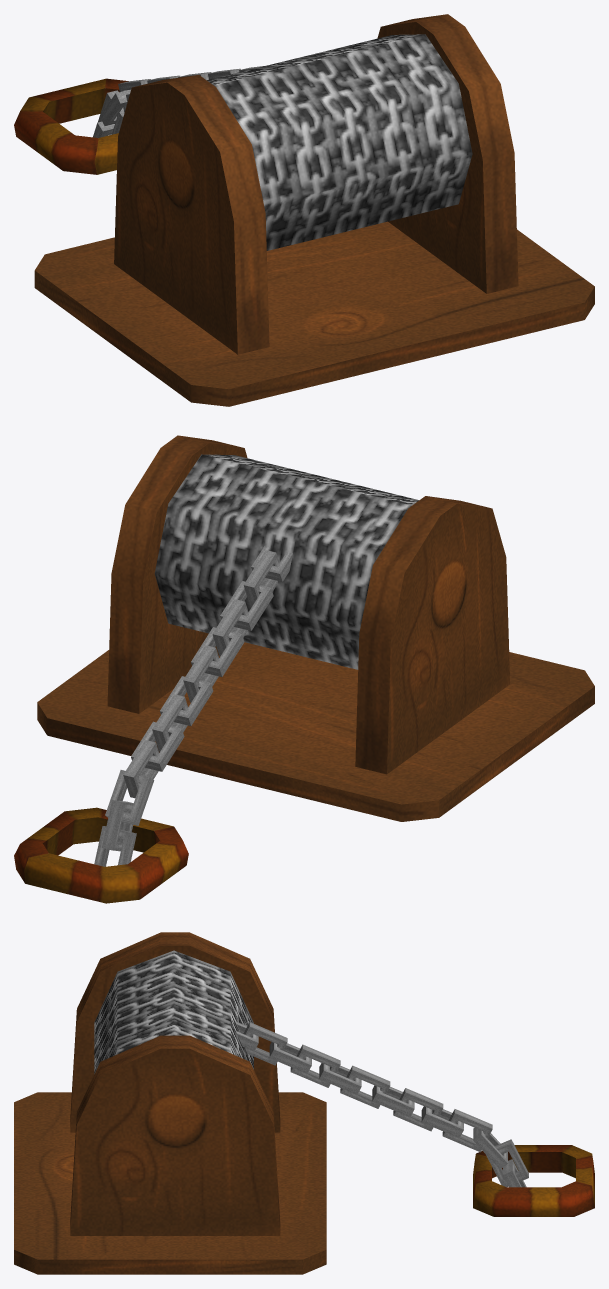
File: Skull_Death_Trap_Winch.FBX
3 views of the same model, one above another, from view 1: azimuth 30°, elevation 25°; view 2: azimuth 150°, elevation 25°; view 3: azimuth 270°, elevation 25° (orthographic). The views are drawn at different scales.
Visible parts, largest first — view 1: Winch; view 2: Winch; view 3: Winch.
Part boxes in pixels (x1,y1,x2,y2): Winch: (14, 14, 594, 406); Winch: (14, 435, 594, 903); Winch: (14, 932, 594, 1274).
Bounding box in the file's own units: 820 × 492 × 1204.
